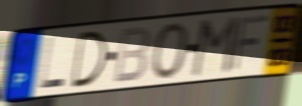B: (111, 24, 151, 86)
D: (70, 29, 109, 91)
F: (229, 13, 272, 74)
L: (38, 35, 67, 91)
M: (189, 14, 241, 78)
O: (149, 21, 190, 82)
